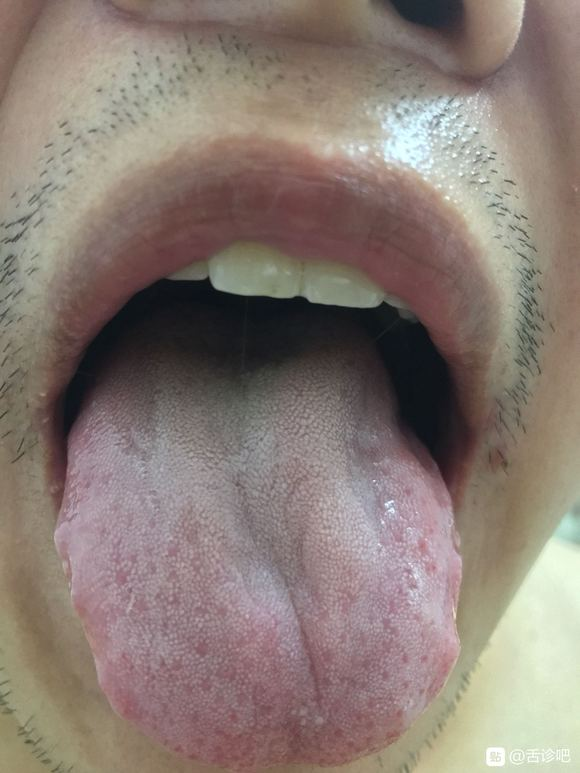baitaishe: (54, 286, 464, 769)
